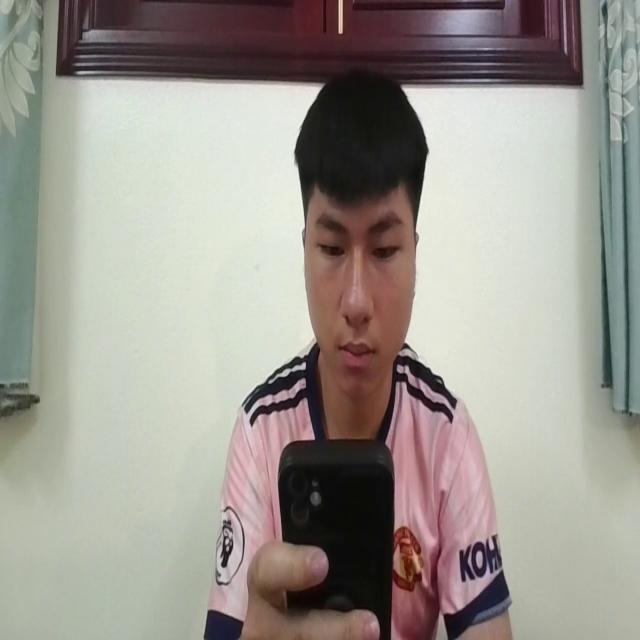phone: (275, 428, 396, 640)
student: (208, 68, 511, 640)
